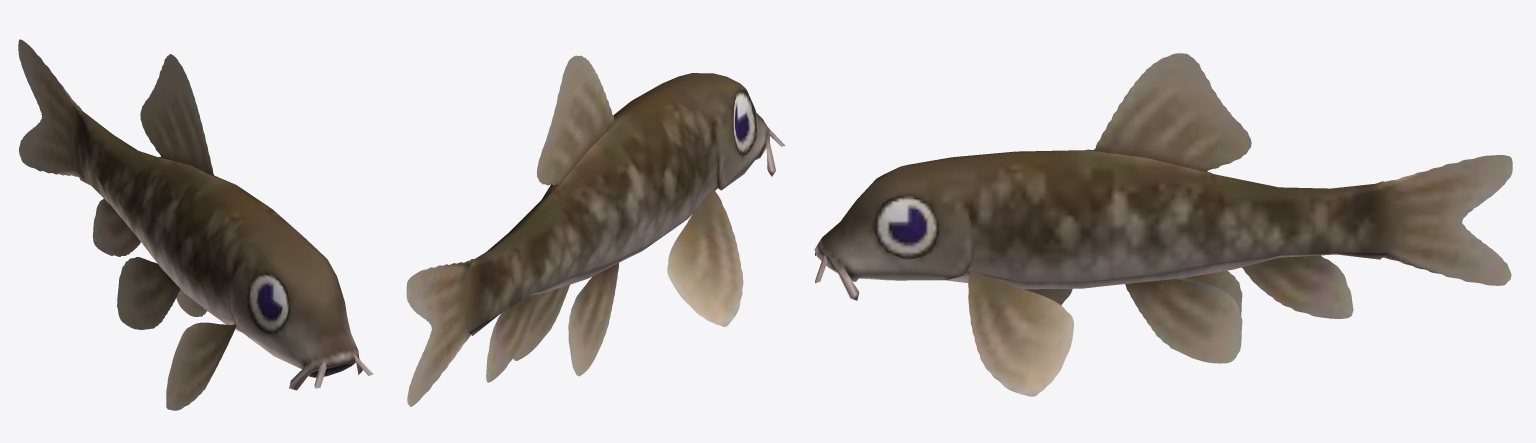
Rendered from nibble-fish.glb.
3 views of the same model, side by side, from view 1: azimuth 30°, elevation 25°; view 2: azimuth 150°, elevation 25°; view 3: azimuth 270°, elevation 25° (orthographic). The views are drawn at different scales.
Size of the model in its own units: 0.9802 by 1.88 by 3.26.
1 material, 1 textured.
